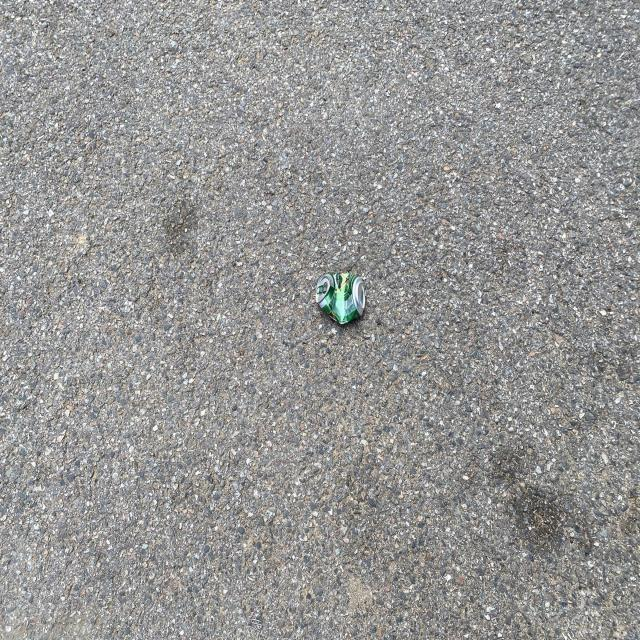can: (316, 272, 366, 324)
